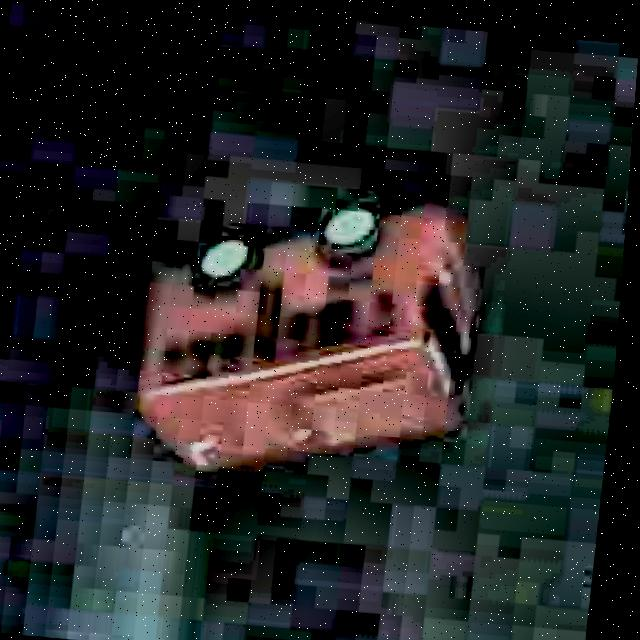bus: (117, 160, 496, 503)
